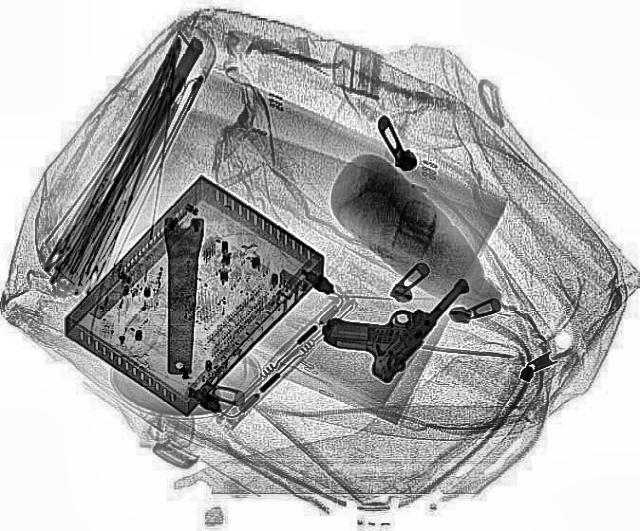Gun: (304, 242, 473, 384)
